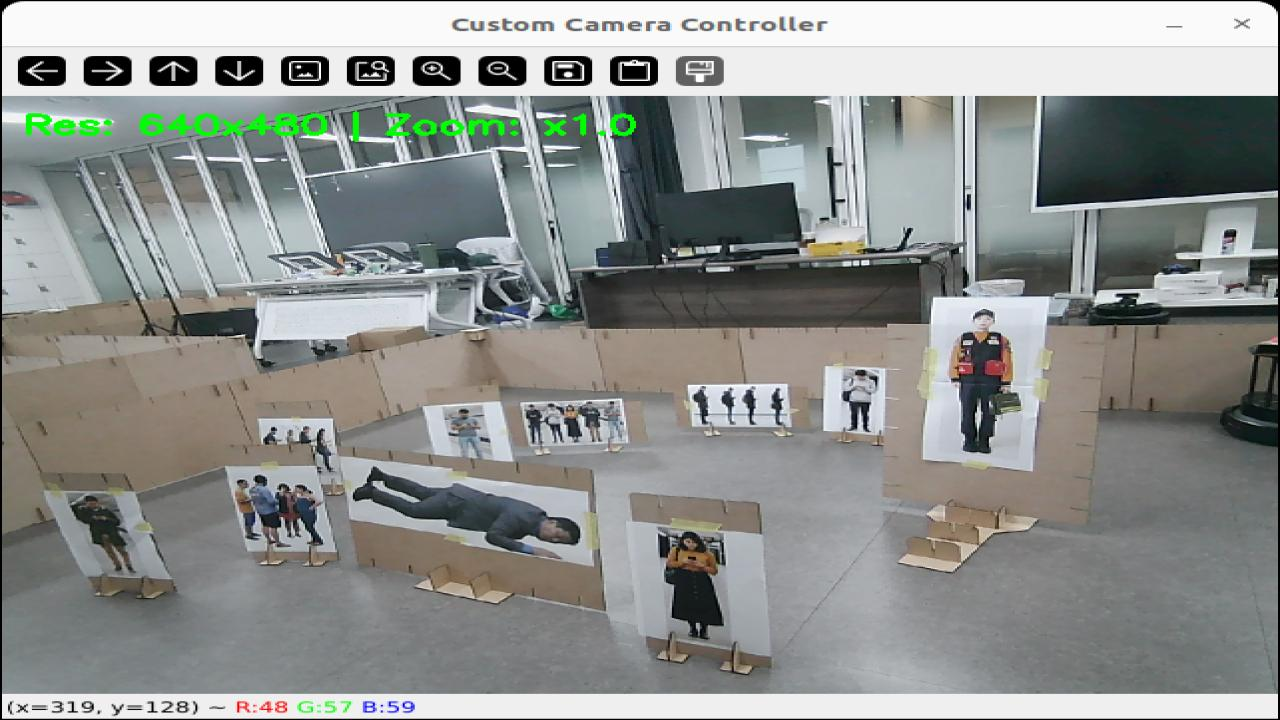Crowd: (668, 531, 724, 639), (72, 496, 124, 564), (249, 477, 287, 546), (843, 370, 877, 430), (295, 485, 323, 546), (233, 481, 259, 539), (451, 410, 480, 457), (277, 485, 299, 536), (315, 430, 331, 471), (582, 401, 598, 440), (604, 401, 620, 438), (524, 405, 540, 442), (544, 406, 560, 441), (692, 386, 706, 422), (564, 406, 578, 441), (742, 387, 754, 424), (772, 390, 782, 425), (722, 390, 732, 422), (263, 429, 275, 443), (299, 426, 307, 443), (285, 430, 293, 443)
Responder: (949, 307, 1009, 454)
